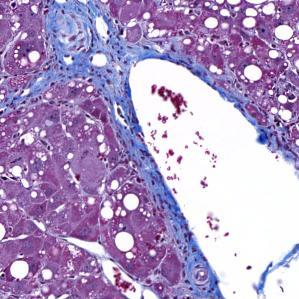fibrosis: (44, 11, 134, 87)
